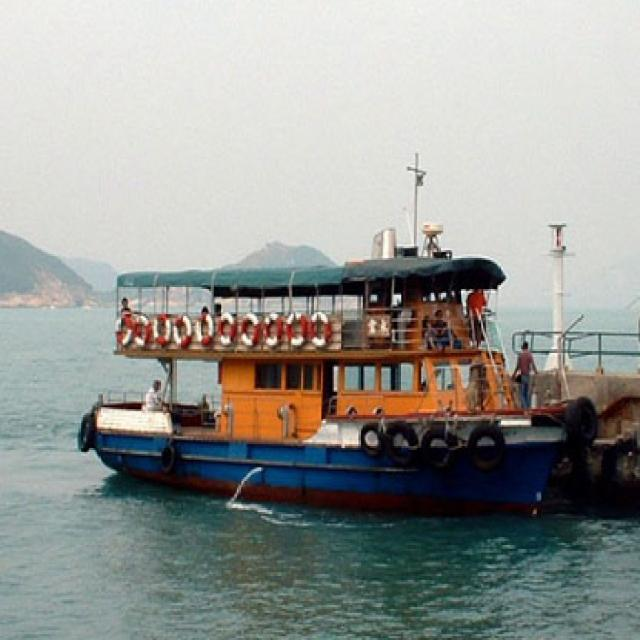houseboat: (100, 218, 572, 502)
